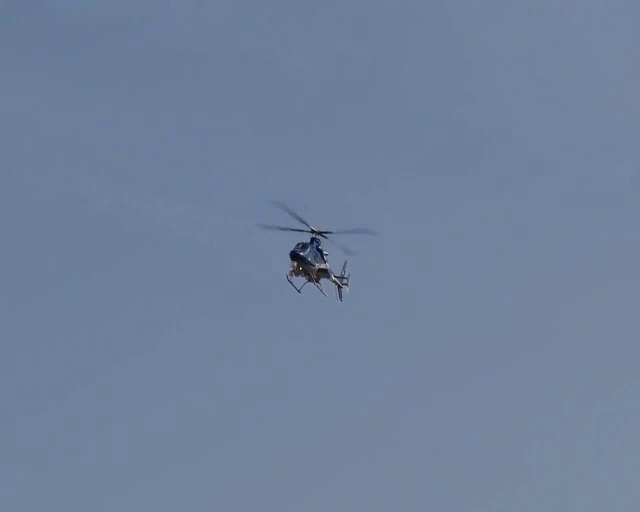HELICOPTER: (255, 198, 378, 302)
